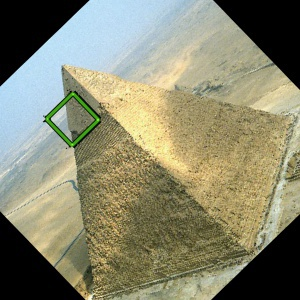square: (42, 89, 103, 149)
